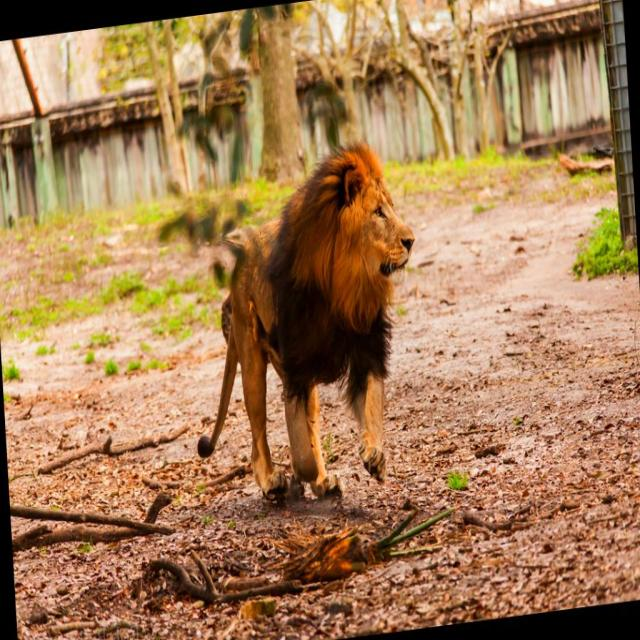Lion: (180, 132, 429, 516)
